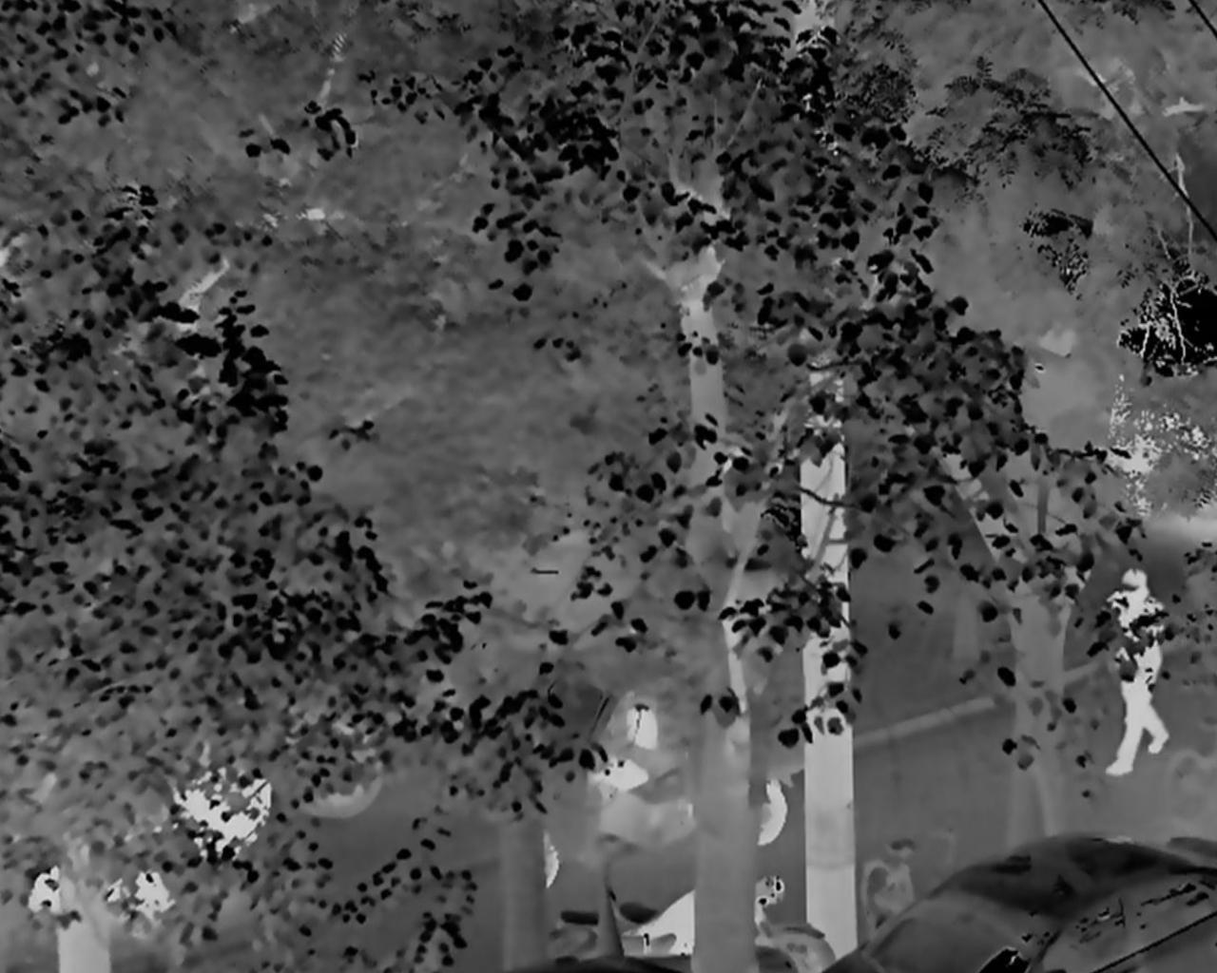person: (1104, 568, 1169, 778)
